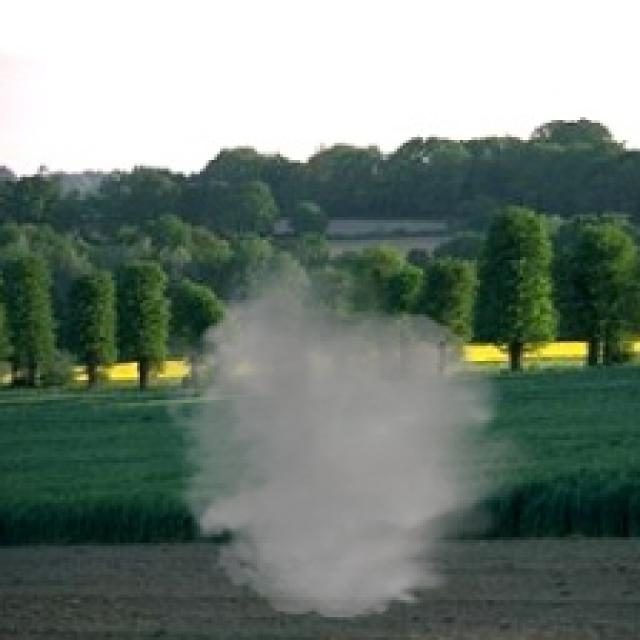smoke: (146, 234, 548, 629)
